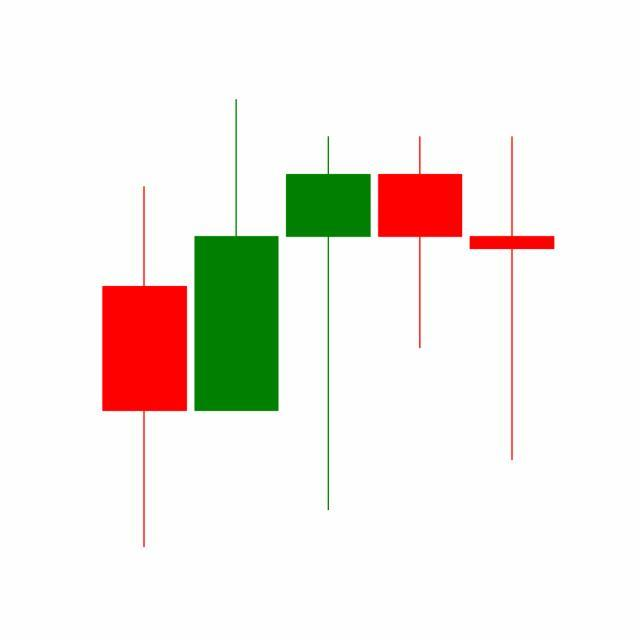Spinning Top: (466, 133, 559, 465)
